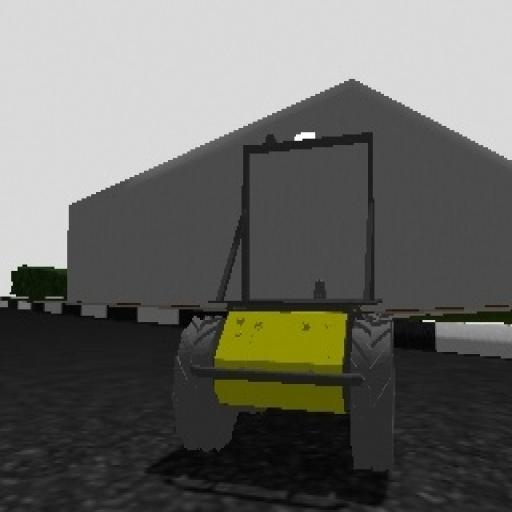huskya200: (154, 118, 421, 480)
